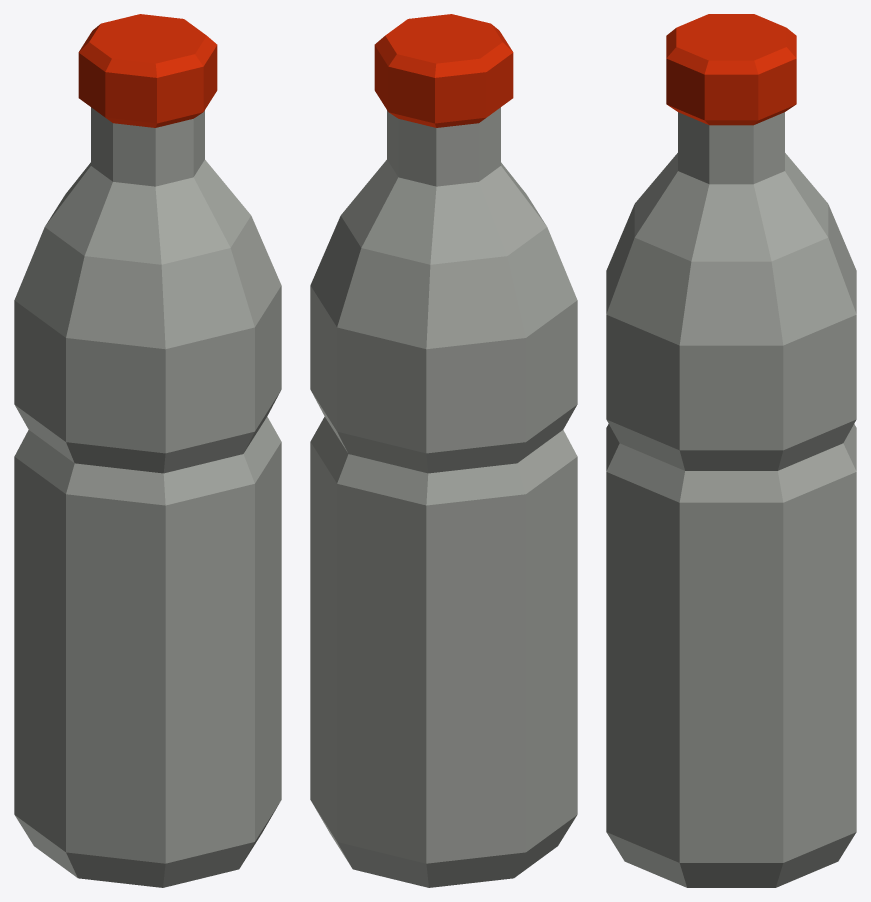
Rendered from SM_Clutter_Bottle_Clear_01.glb.
3 renders of one model, left to right at view 1: azimuth 30°, elevation 25°; view 2: azimuth 150°, elevation 25°; view 3: azimuth 270°, elevation 25°, orthographic.
Parts seen in each view (by area): view 1: SM_Clutter_Bottle_Clear_01; view 2: SM_Clutter_Bottle_Clear_01; view 3: SM_Clutter_Bottle_Clear_01.
Boxes of the visible parts, box(x1,y1,x2,y2) form: SM_Clutter_Bottle_Clear_01: box(14, 14, 281, 887); SM_Clutter_Bottle_Clear_01: box(310, 14, 577, 887); SM_Clutter_Bottle_Clear_01: box(606, 14, 856, 887).
Bounding box in the file's own units: 0.0693 × 0.246 × 0.0693.
1 material, 1 textured.
